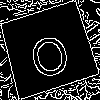O: (24, 24, 74, 81)
